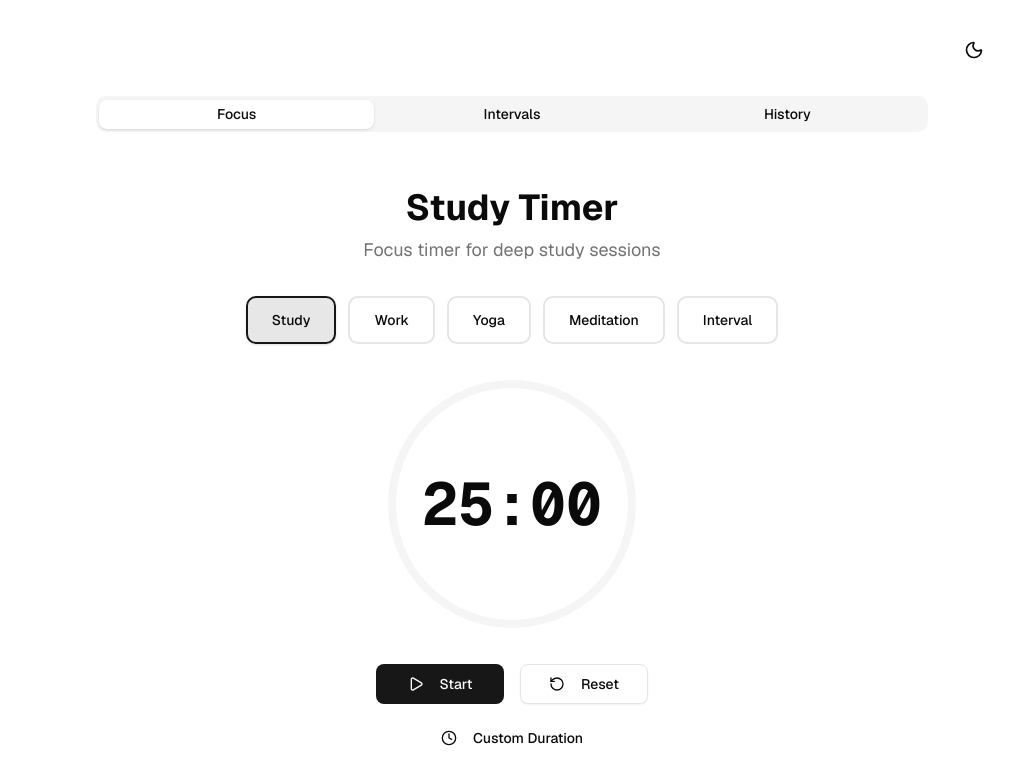
Scenario: FocusTabs › Focus Mode Switching › should update title when switching to Meditation mode
What coordinates should you click on to do the following:
click the text "Meditation"
I would click on:
 (604, 320)
Its box is [569,310,639,330].
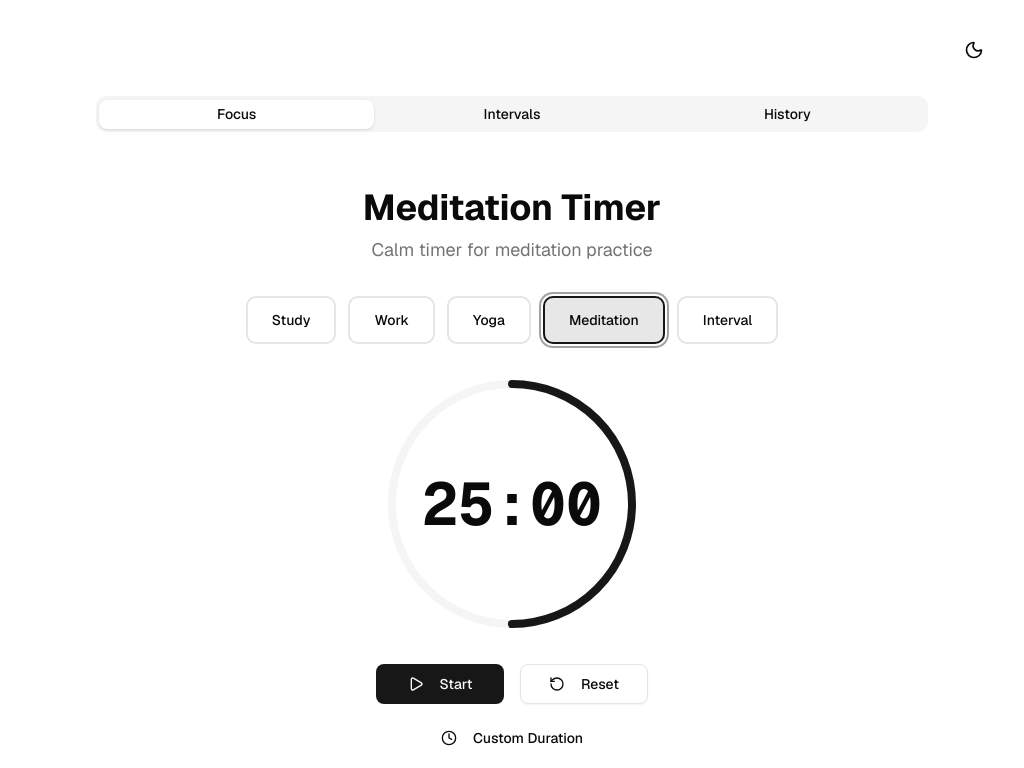
Now the heading "Meditation Timer" is shown, box [363,184,661,231]
Now the text "Calm timer for meditation practice" is shown, box [371,238,652,261]
